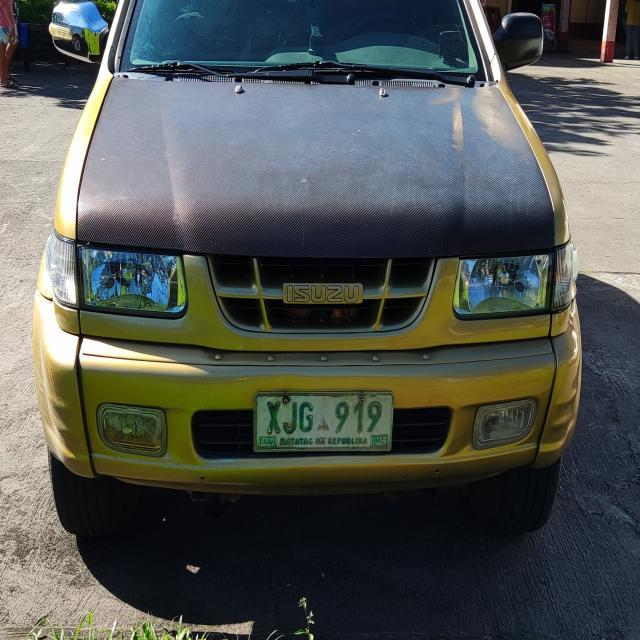LicensePlate: (240, 382, 405, 451)
